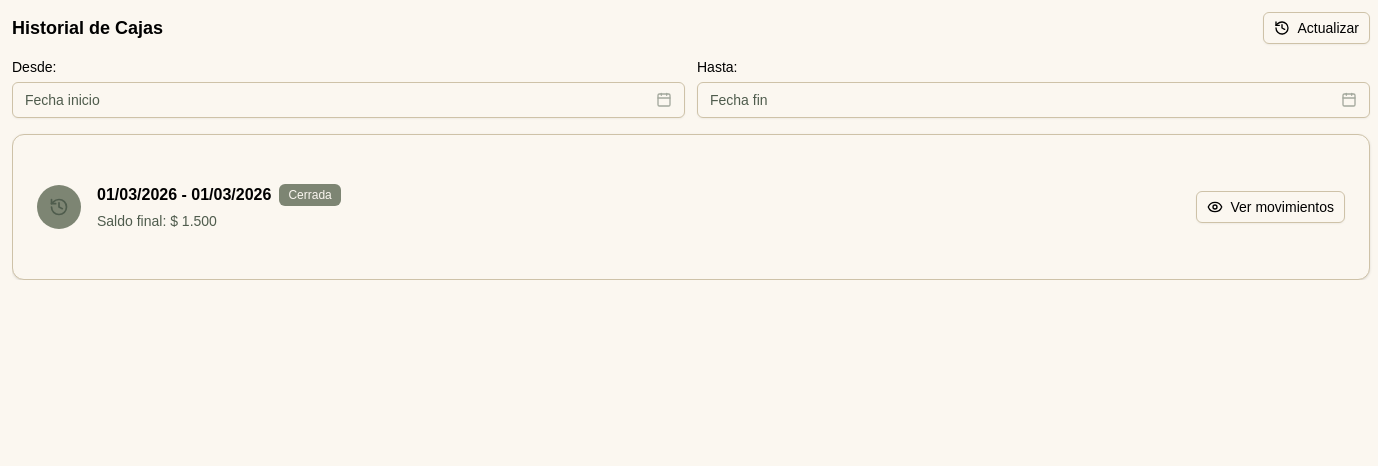
it: CashBoxHistory Component › loads and displays cash box transactions when expanding a closed box
Click the button "Ver movimientos" at x=1270, y=207, box [1196,191,1345,223]
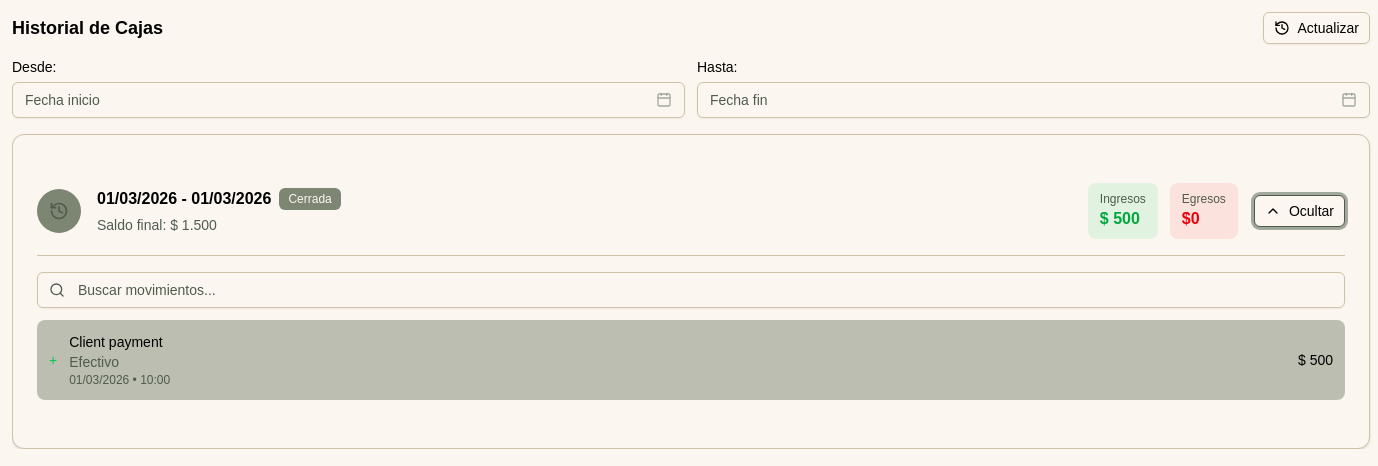
Expected: the text "Client payment" is shown, [69,332,170,352]
